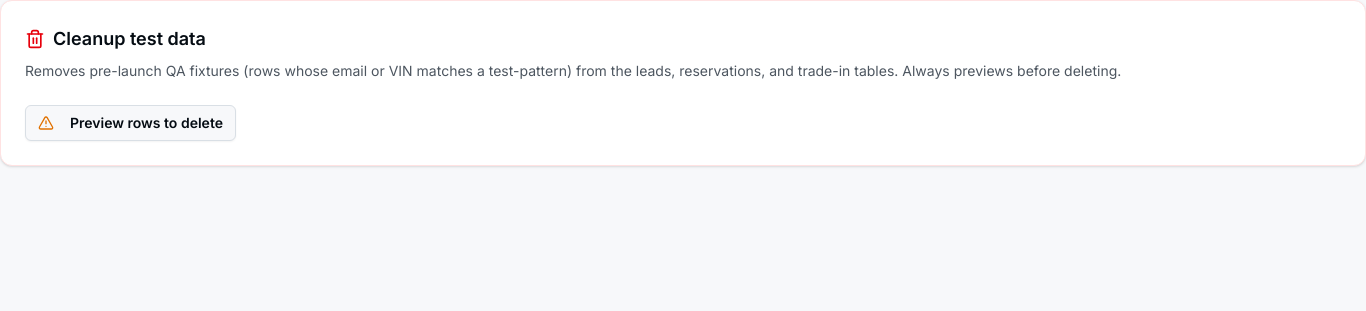
Test: CleanupTestDataCard › shows preview counts after clicking preview
Click the button "Preview rows to delete" at (130, 123), box [25,105,236,141]
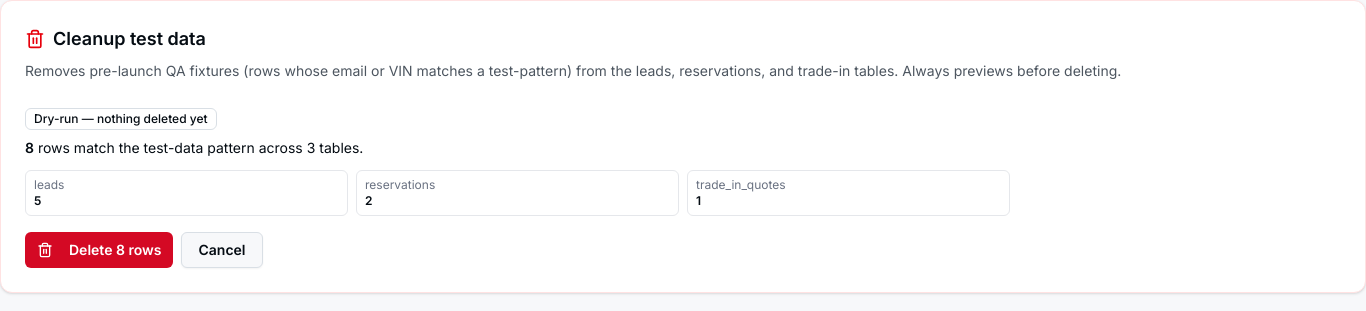
Expected: the text "Dry-run — nothing deleted yet" is shown, [25,108,217,130]
Expected: the text "8" is shown, [25,139,34,156]
Expected: the button "Delete 8 rows" is shown, [25,232,174,268]
